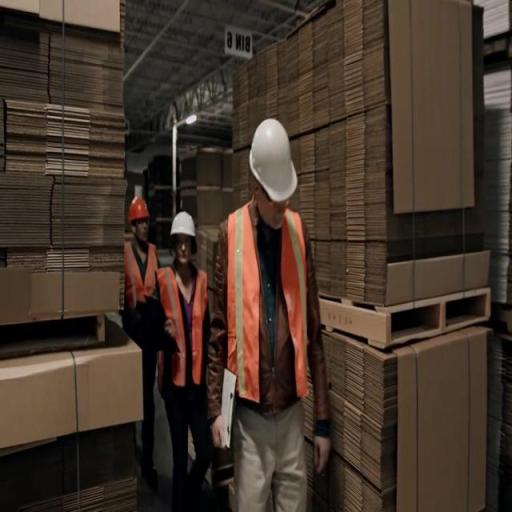helmet: (245, 108, 301, 210), (167, 204, 201, 249), (125, 191, 152, 226)
vest: (213, 204, 318, 426), (152, 261, 214, 413), (123, 237, 162, 329)
